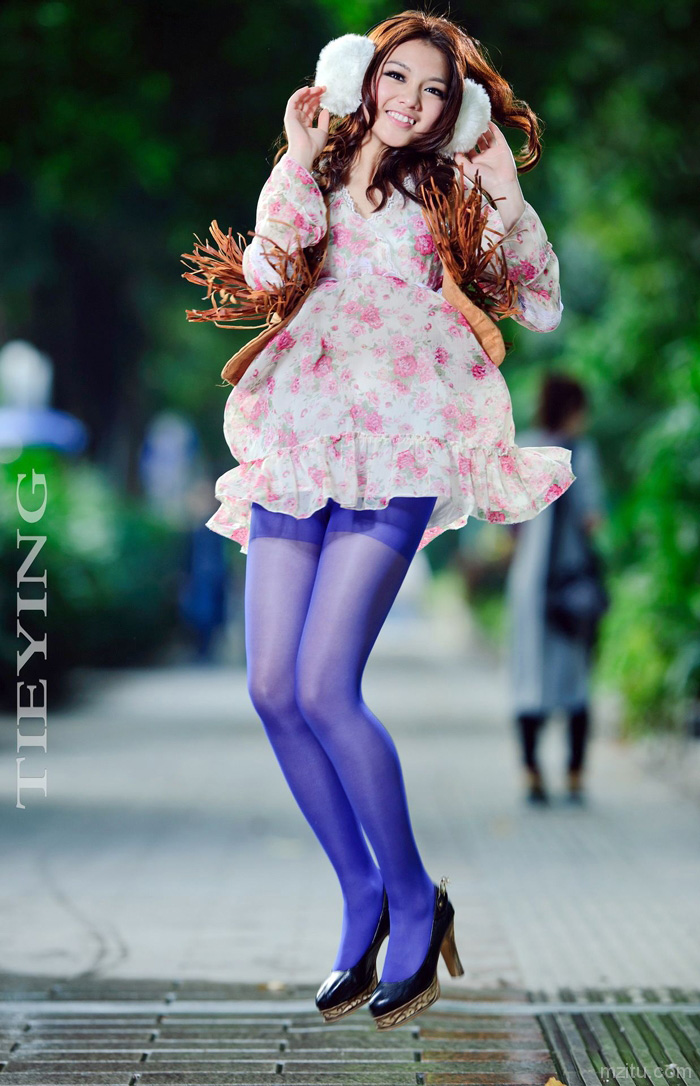women: (180, 1, 583, 1030)
